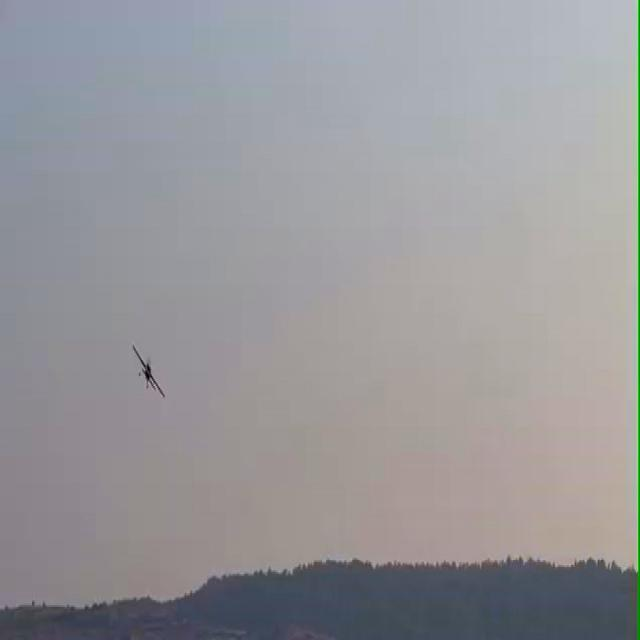iha: (125, 341, 167, 401)
